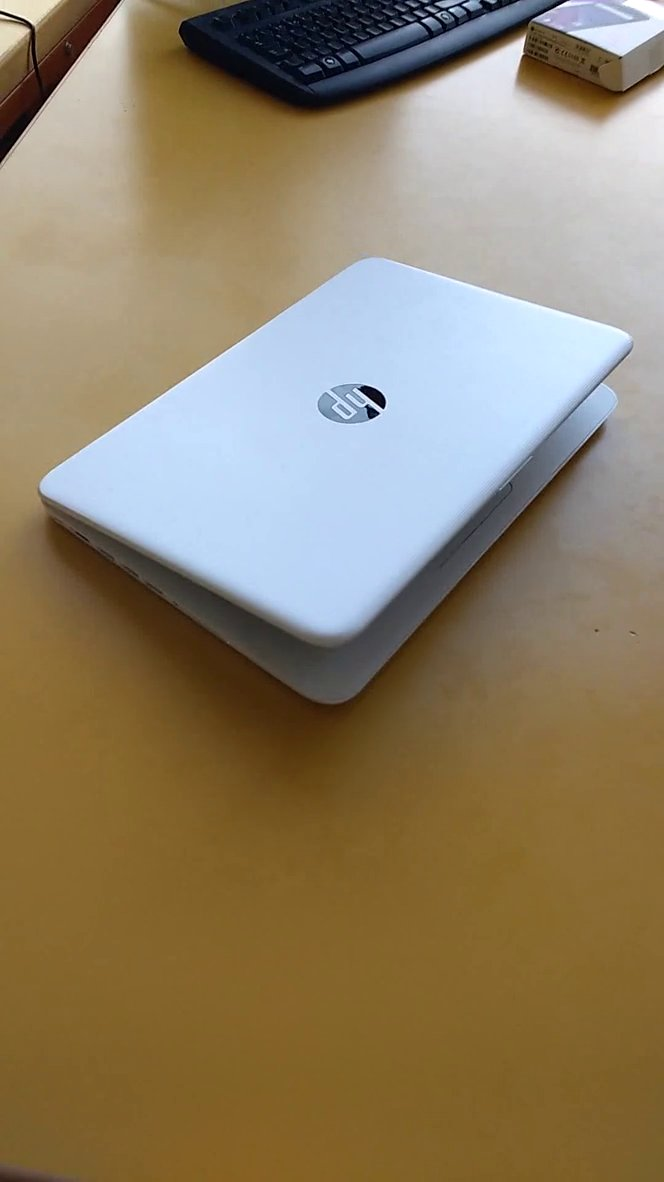laptop: (15, 240, 657, 750)
